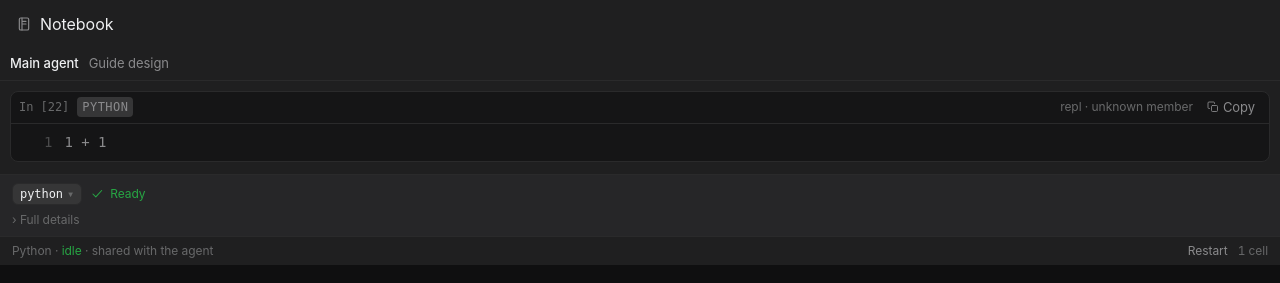
Test: reaches a declared environment no cell of this Task has used yet
The image size is (1280, 283).
Check: the message reads "Ready", box [110,186,146,200]
Click the button with aria-label "Kernel environment:": (47,194) [12,183,82,205]
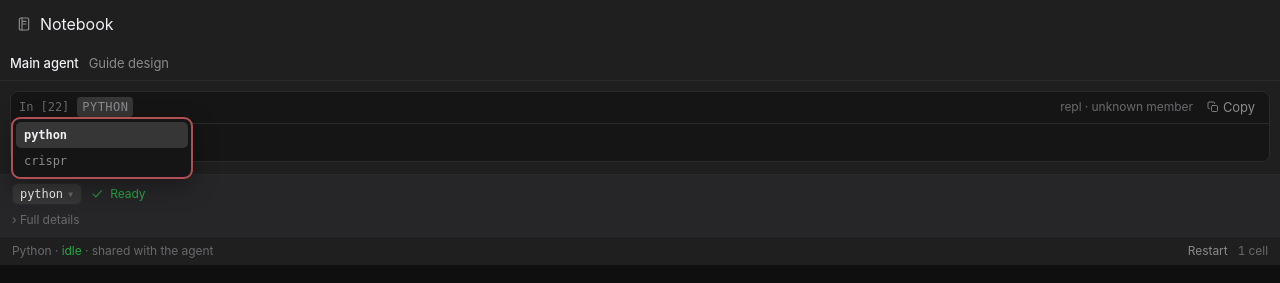
Click the option "crispr": (46,161) [24,154,67,168]
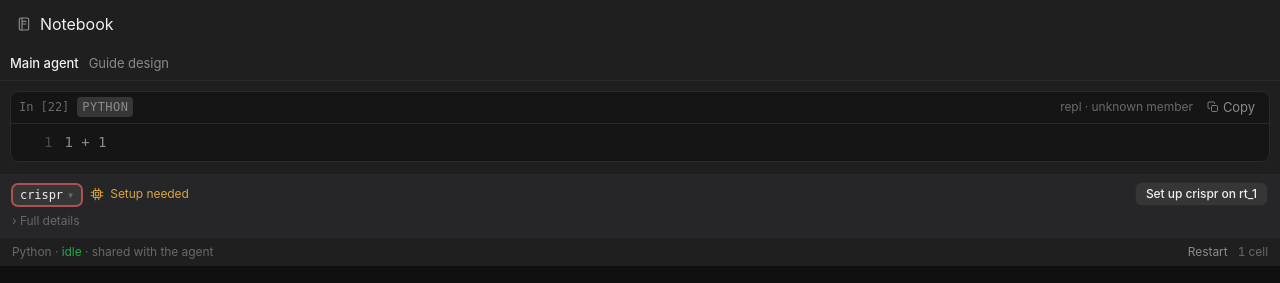
Check: the button "Set up crispr on rt_1" is shown, box [1135,182,1268,206]
